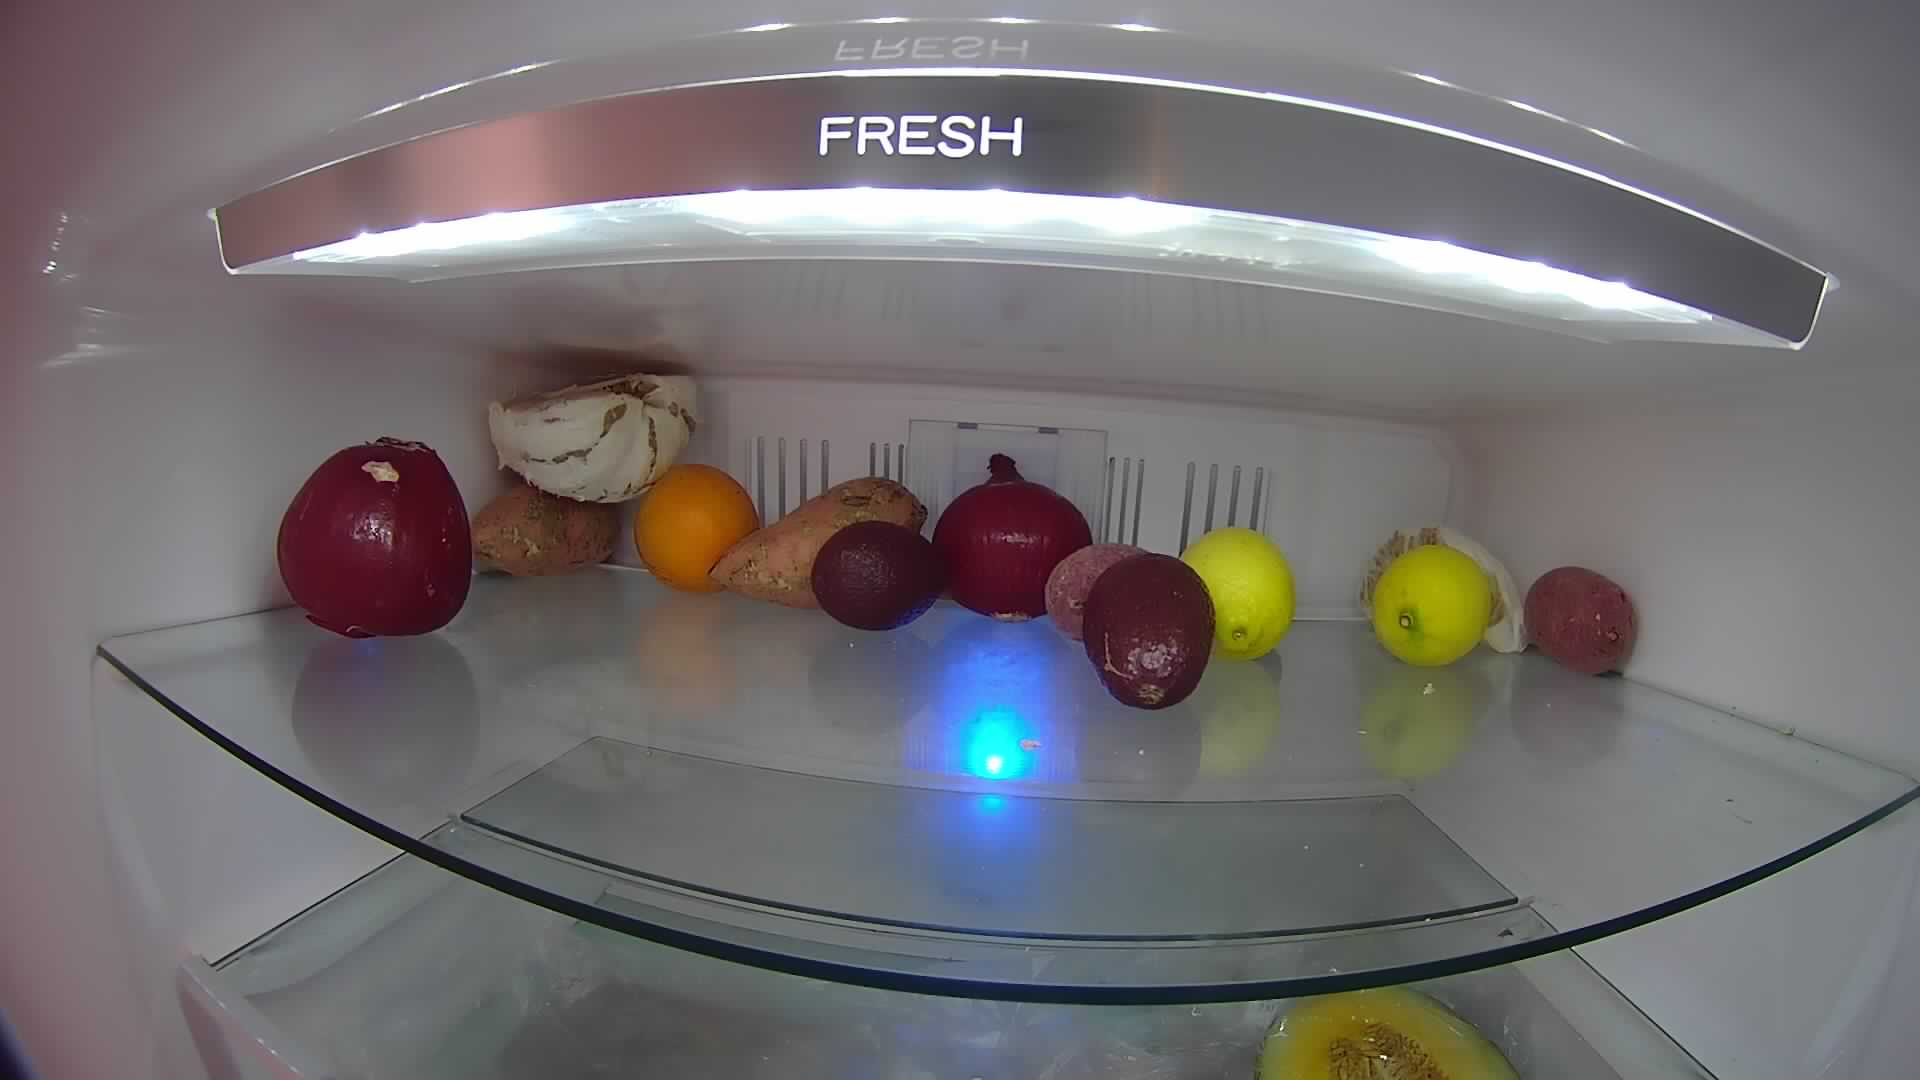avocado: (1062, 539, 1209, 704), (811, 516, 963, 628)
lemon: (1366, 520, 1497, 674)
onion: (268, 429, 481, 632), (940, 444, 1089, 644)
orange: (621, 460, 761, 589)
pear: (1182, 524, 1286, 669)
pomelo: (477, 385, 679, 495)
sweet-potato: (684, 483, 901, 609), (456, 469, 628, 585), (1519, 564, 1626, 671), (1034, 545, 1137, 647)
